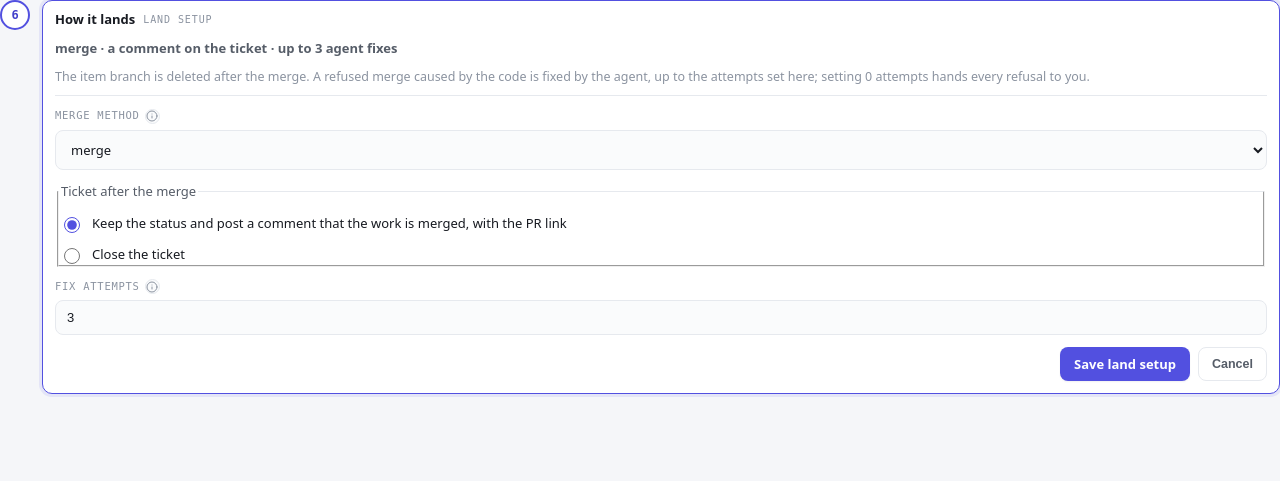
Test: land step (M4 land, spec §7.1) › a stale save shows the reason sentence
Click the button "Save land setup" at (1125, 364), box [1060, 347, 1190, 381]
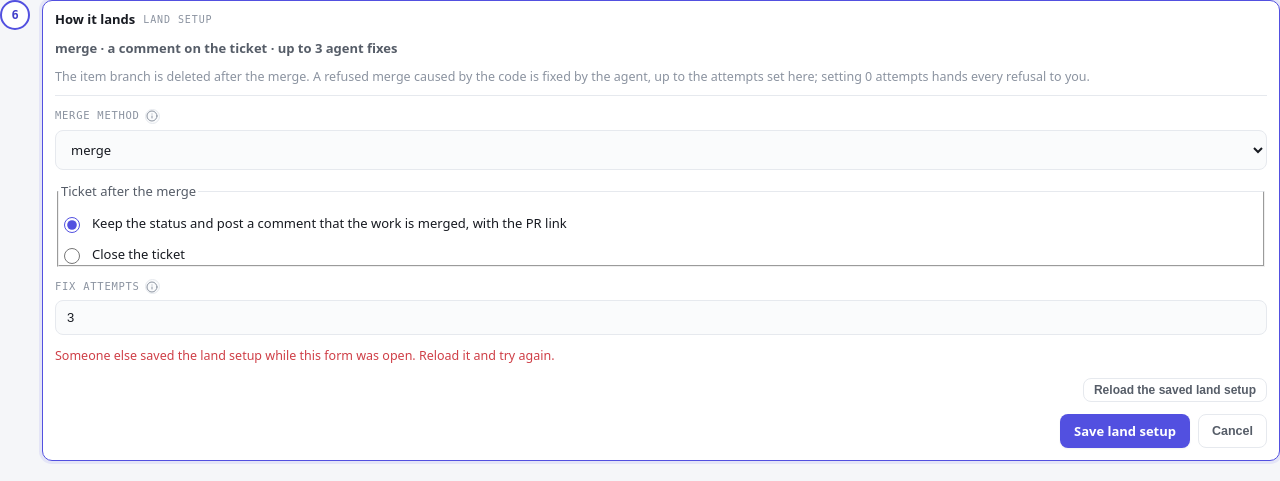
Check: the message does not show "{", box [55, 347, 554, 364]
Check: the message shows "Someone else saved the land setup while this form was open. Reload it and try again.", box [55, 347, 554, 364]
Check: the button "Reload the saved land setup" is shown, box [1083, 378, 1267, 402]
